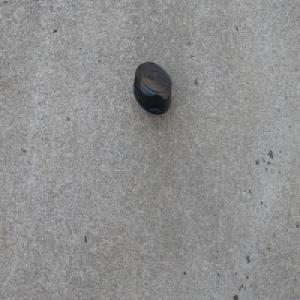FuelCap: (132, 60, 172, 119)
